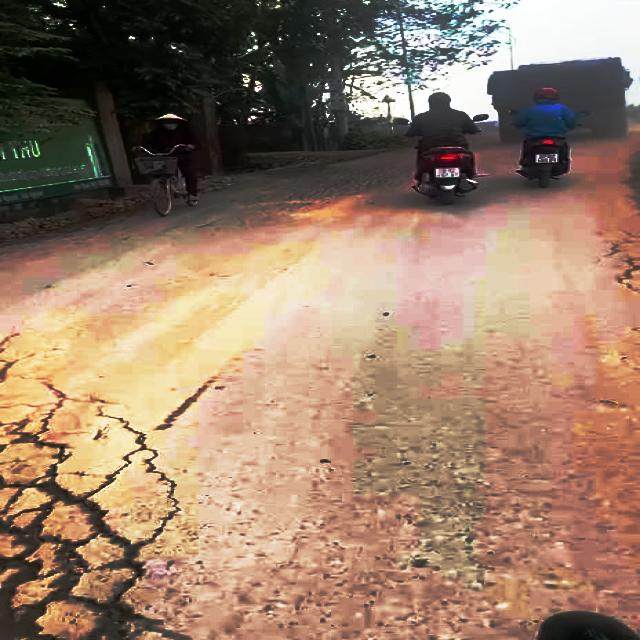pothole: (0, 439, 161, 640)
